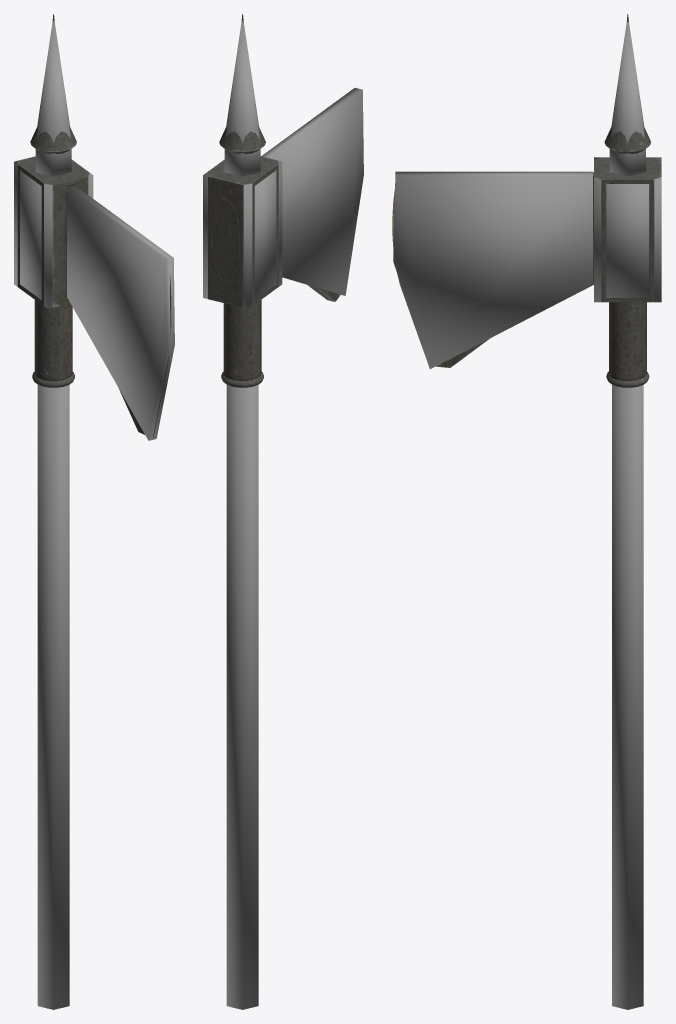
The model's file is SM_light_axe.FBX.
3 renders of one model, left to right at view 1: azimuth 30°, elevation 25°; view 2: azimuth 150°, elevation 25°; view 3: azimuth 270°, elevation 25°, orthographic.
Visible parts, largest first — view 1: light_axe_UCX, light_axe; view 2: light_axe_UCX, light_axe; view 3: light_axe_UCX, light_axe.
Part boxes in pixels (<box>): light_axe_UCX: <box>14,20,174,1009</box>; light_axe: <box>17,14,171,438</box>; light_axe_UCX: <box>203,20,363,1009</box>; light_axe: <box>206,14,340,387</box>; light_axe_UCX: <box>393,20,661,1009</box>; light_axe: <box>392,14,661,387</box>.
Bounding box in the file's own units: 4.85 × 101 × 24.85.
Materials: 2 (1 with a texture image).
